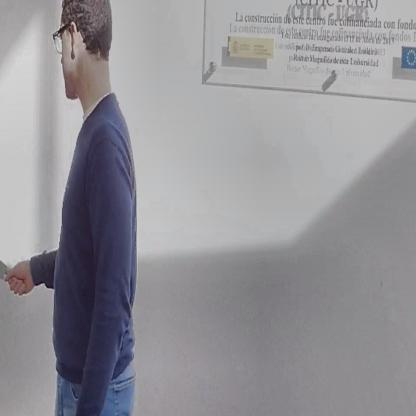knife: (0, 237, 28, 294)
